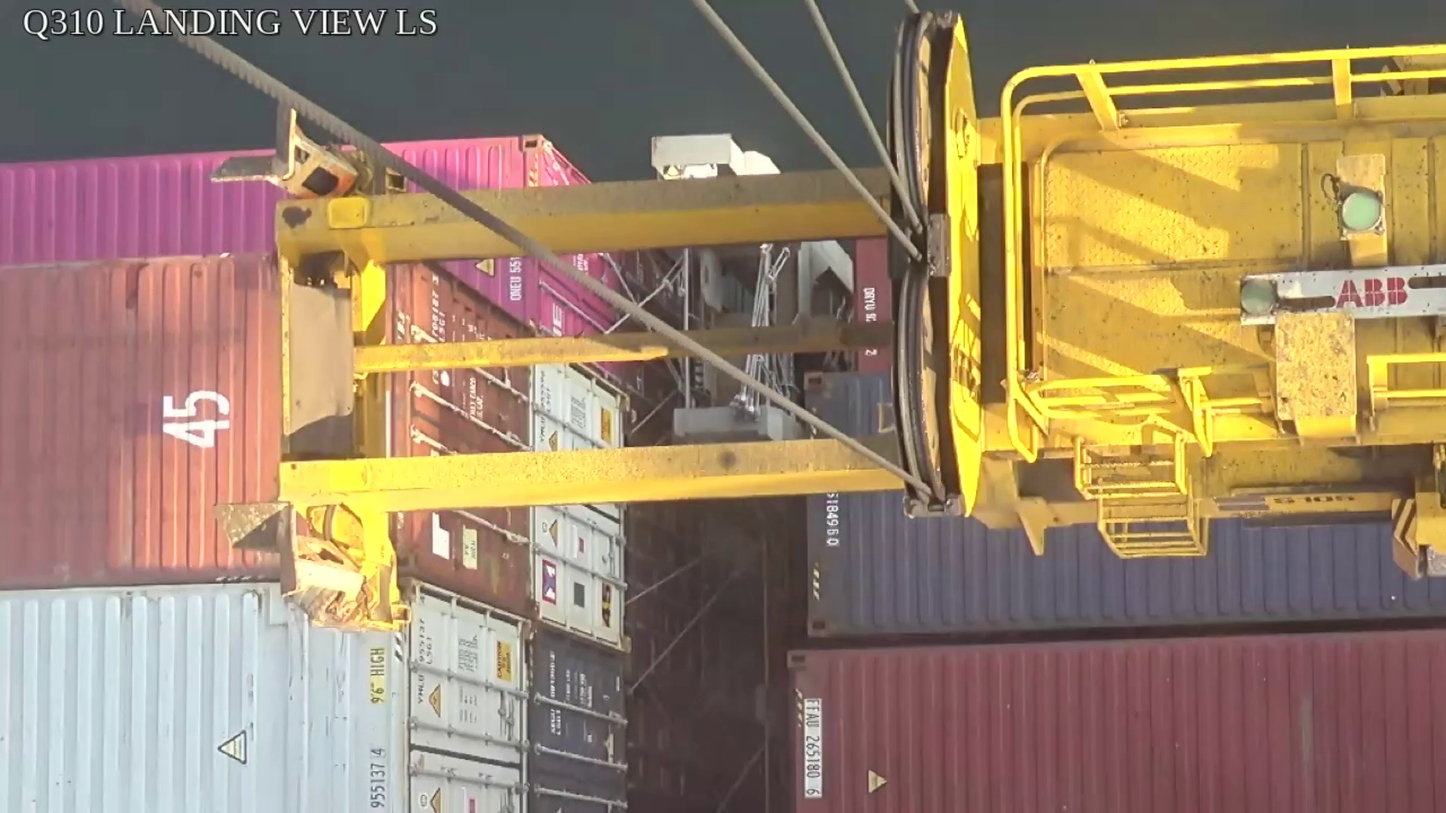aa: (889, 12, 984, 516)
